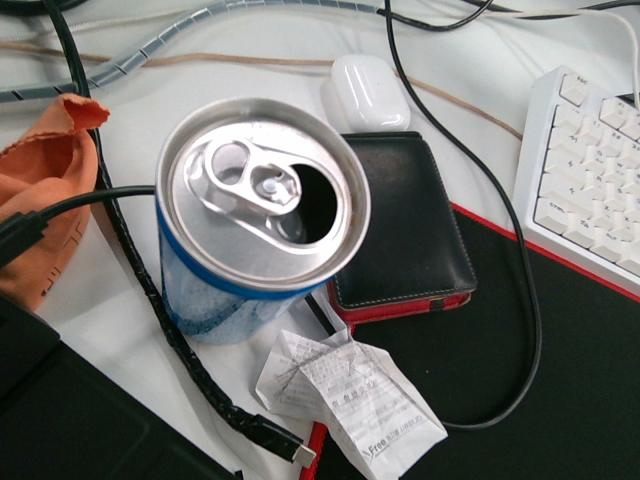letsbe: (153, 95, 371, 345)
